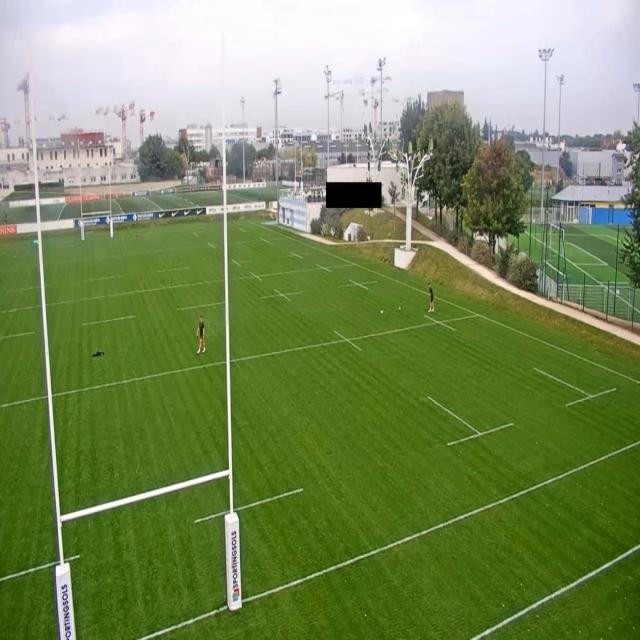person: (196, 315, 206, 354), (427, 281, 434, 312)
rugby ball: (398, 302, 403, 315), (380, 304, 384, 316)
